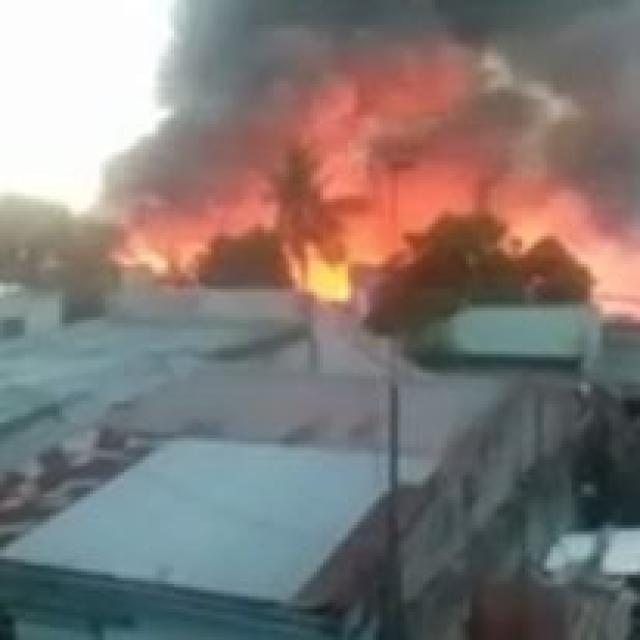Fire: (114, 217, 223, 297), (286, 236, 375, 314)
Smoke: (102, 0, 637, 196)
